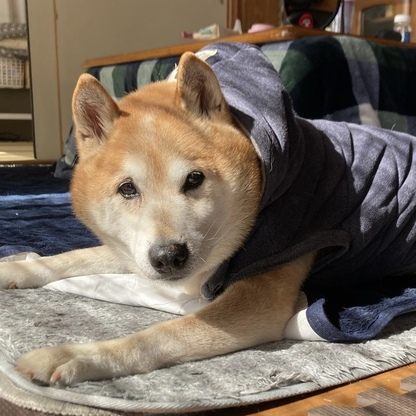shiba: (1, 48, 416, 392)
